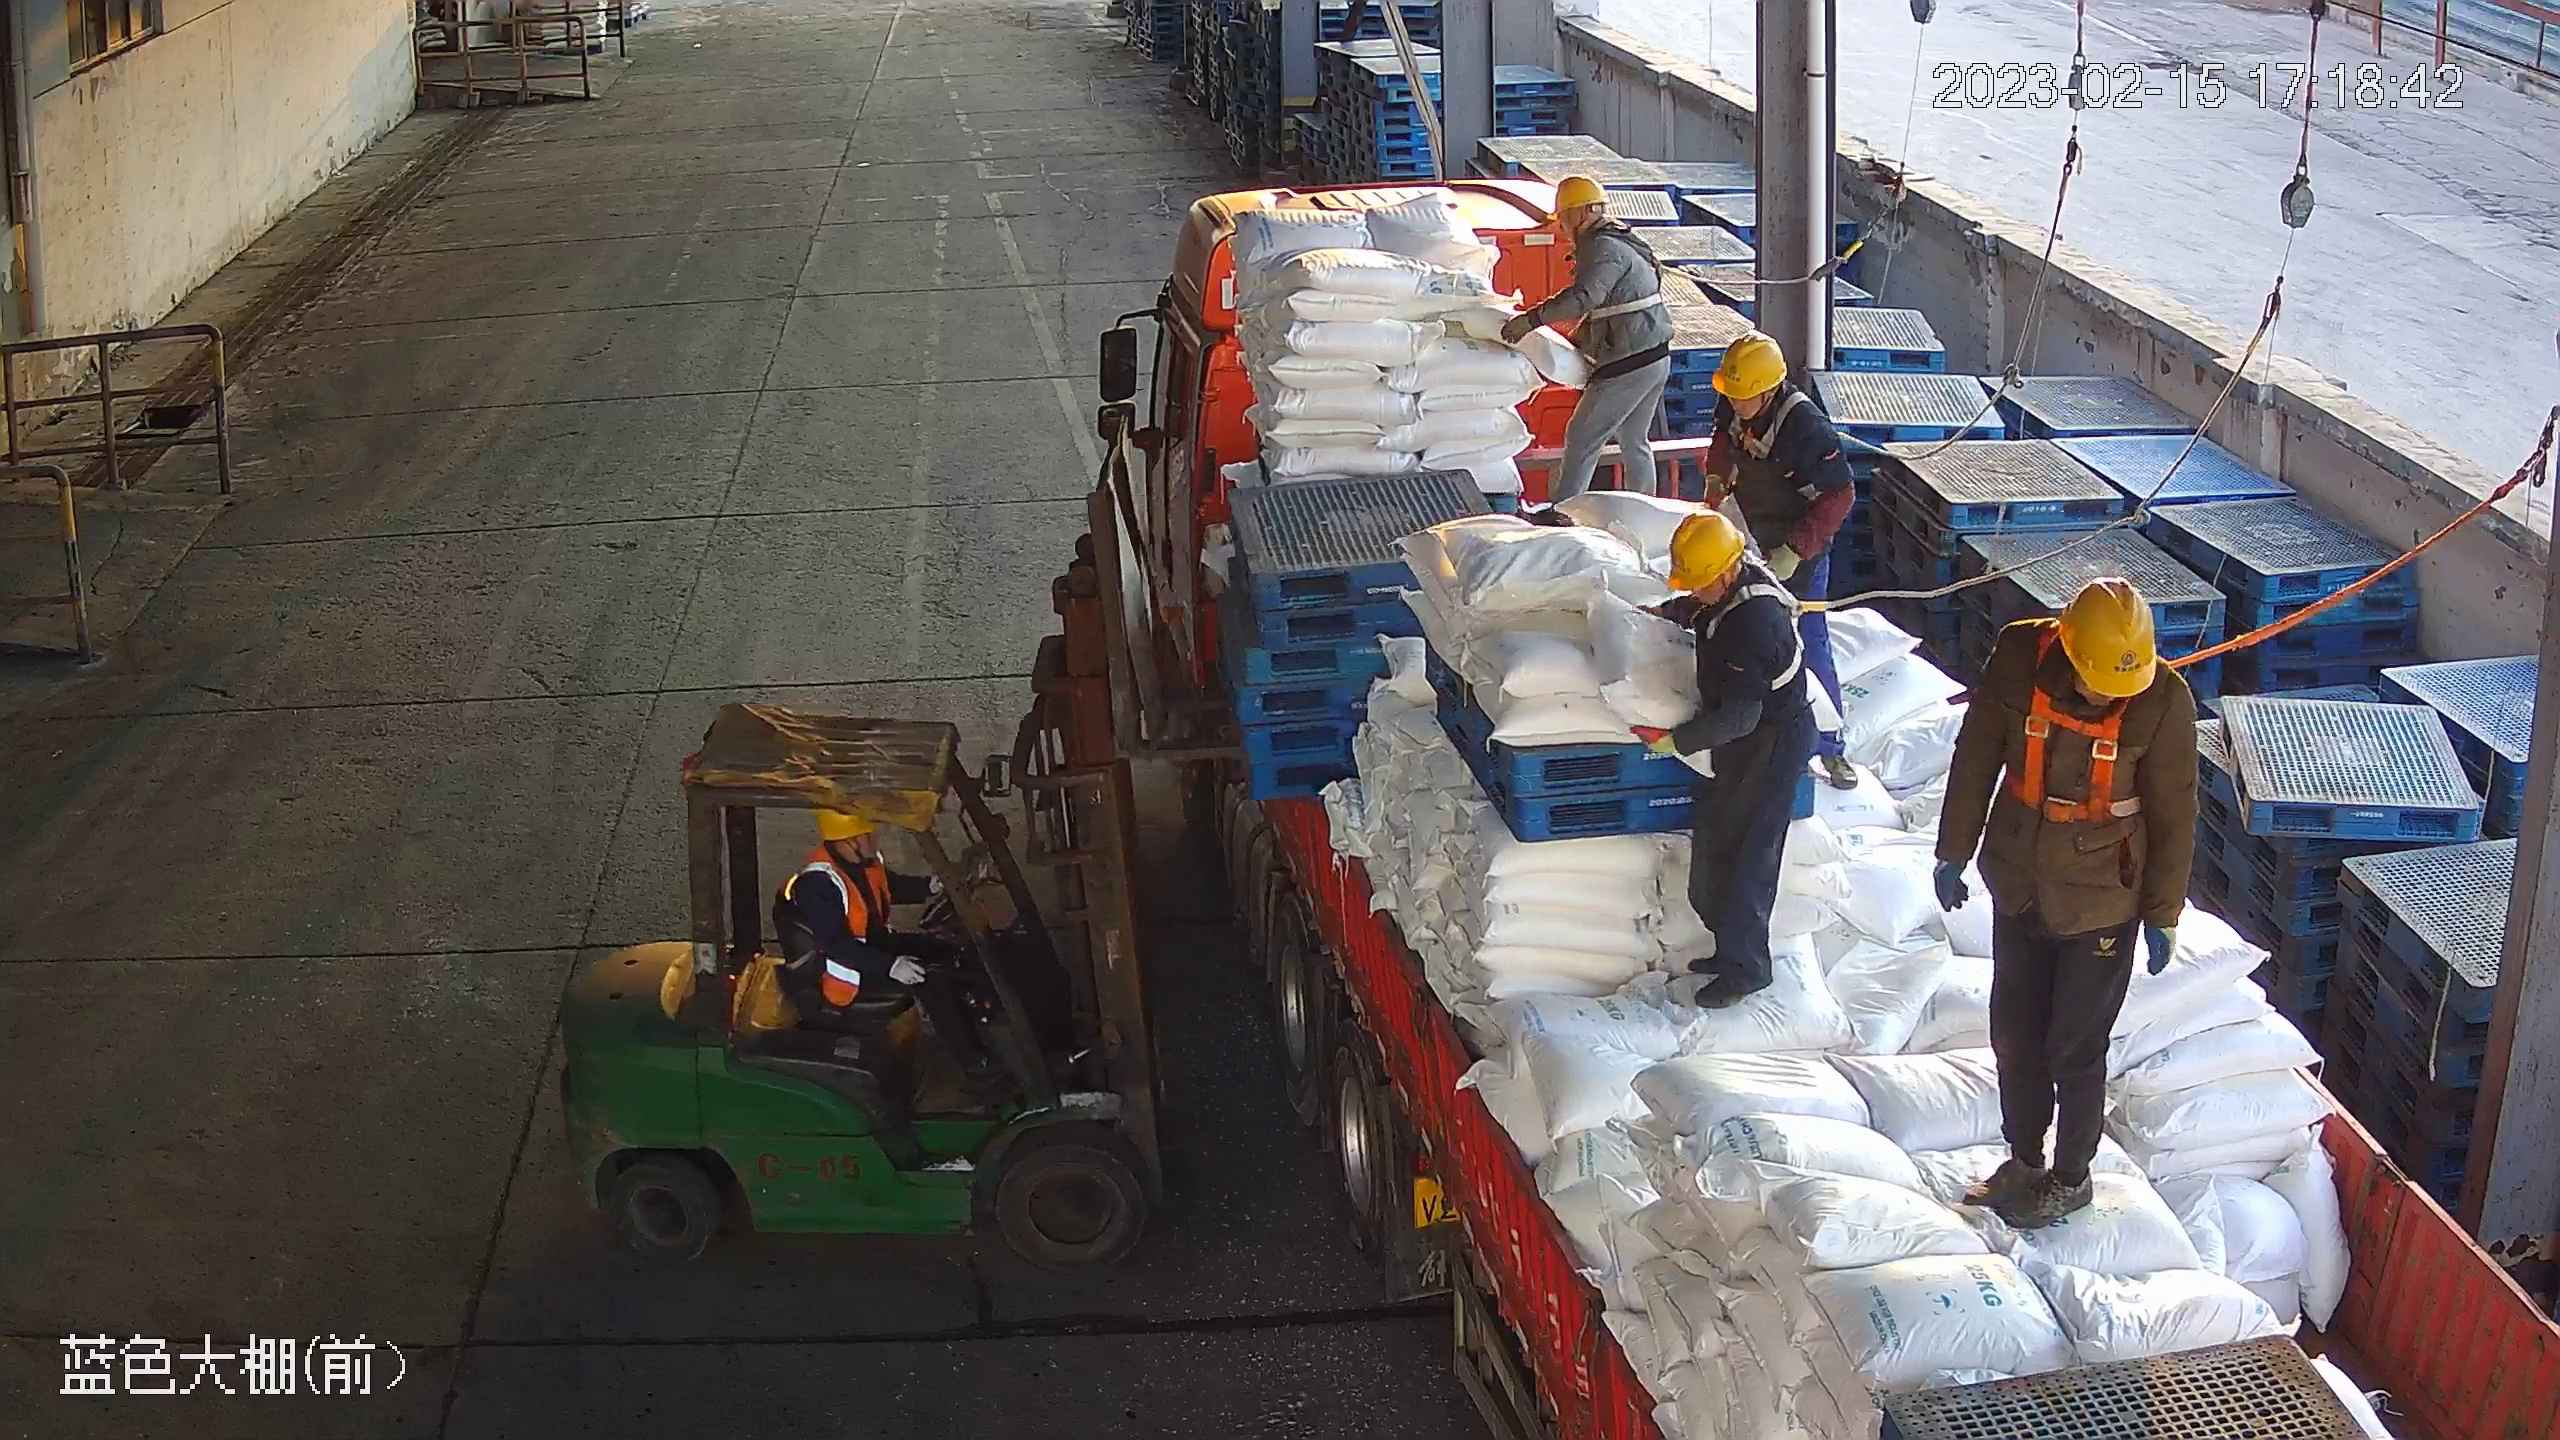belt: (2003, 614, 2203, 829), (1682, 565, 1842, 694), (1660, 510, 1802, 639), (1564, 217, 1685, 321), (1722, 390, 1860, 479)
head: (1979, 574, 2201, 727), (1710, 329, 1839, 443), (779, 805, 900, 911), (1541, 175, 1658, 267)
helmet: (2055, 574, 2156, 699), (1662, 510, 1747, 593), (1710, 329, 1790, 401), (1546, 176, 1608, 220), (813, 804, 877, 842)
people: (1925, 574, 2206, 1223), (1633, 511, 1814, 1009), (1704, 328, 1861, 791), (775, 805, 1018, 1095), (1499, 175, 1676, 502)
truck: (1146, 172, 2560, 1440)
